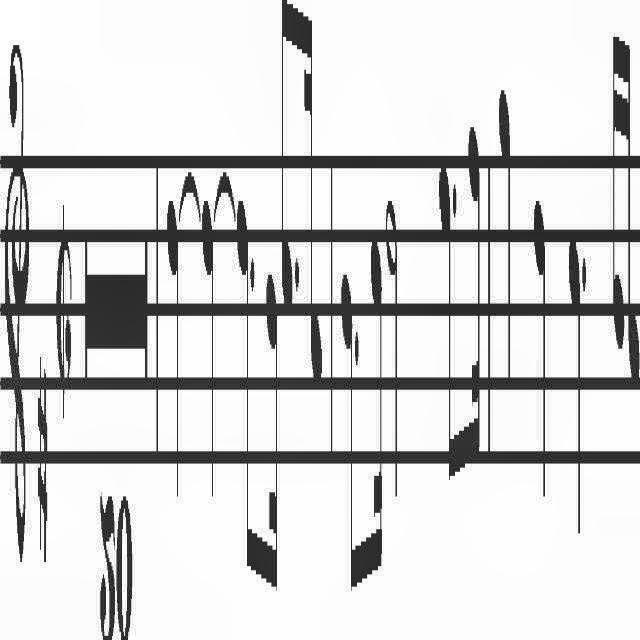Bass-clef: (3, 32, 29, 576)
Diez: (36, 351, 48, 574)
Eighth-note: (236, 199, 250, 589), (341, 266, 355, 614), (437, 161, 451, 505), (279, 0, 293, 316)
Half-note: (385, 189, 399, 507)
Quarter-note: (200, 190, 216, 514), (532, 194, 548, 514), (166, 192, 180, 516), (498, 80, 512, 392), (567, 234, 581, 546)
Sixteenth-note: (302, 0, 322, 398), (624, 32, 640, 386), (610, 33, 624, 351), (370, 233, 382, 587), (468, 123, 480, 469), (266, 264, 278, 604)
